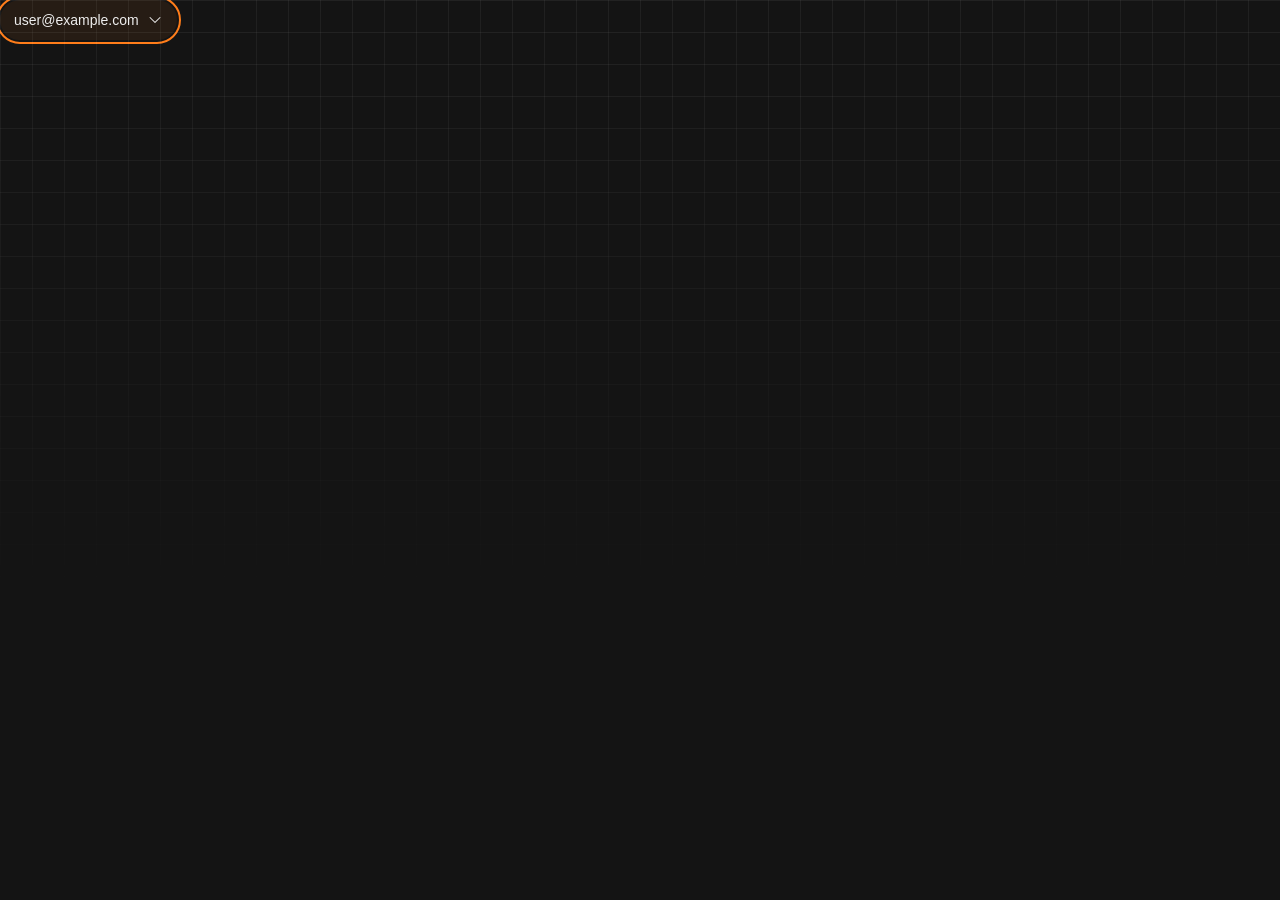
Test case: UserMenu › お問い合わせからメールと GitHub Issues の導線を確認できる
This screenshot has width=1280, height=900.
Press Enter
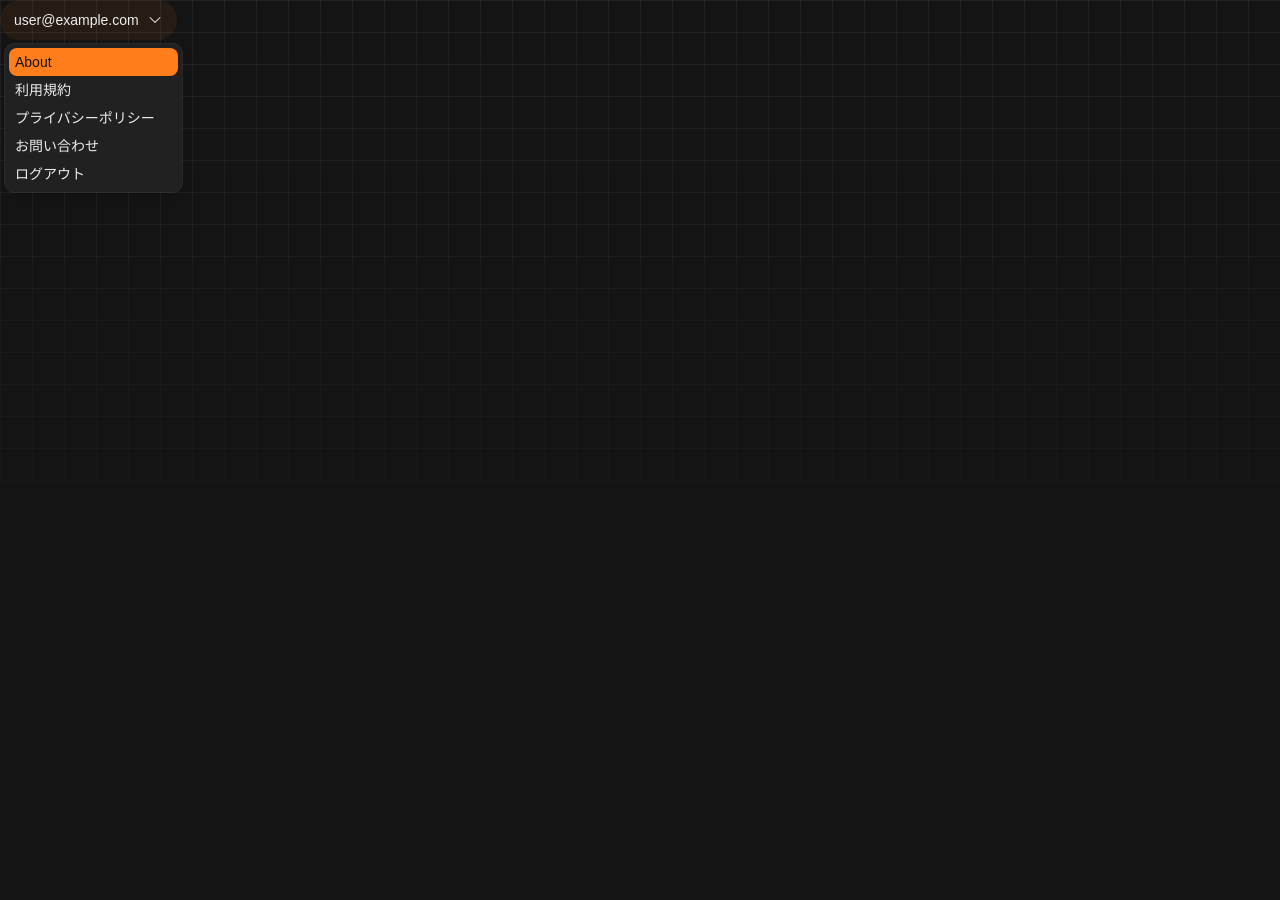
Click the menu item "お問い合わせ".
click(57, 146)  # box [15, 138, 99, 154]
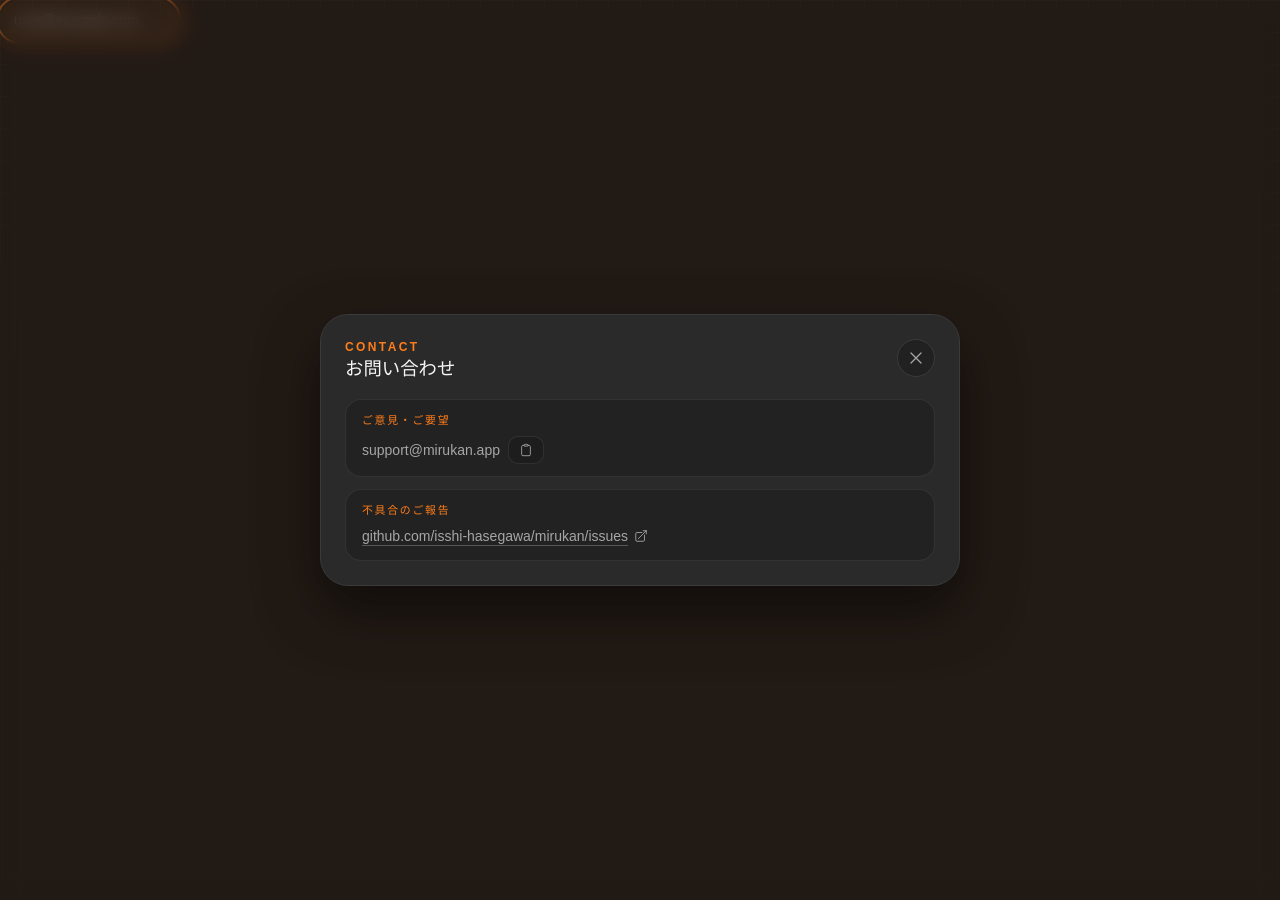
Expected: the dialog "お問い合わせ" is shown, [320, 314, 960, 586]
Expected: the text "support@mirukan.app" is shown, [362, 440, 500, 460]
Expected: the button named "メールアドレスをコピー" is shown, [508, 436, 544, 464]
